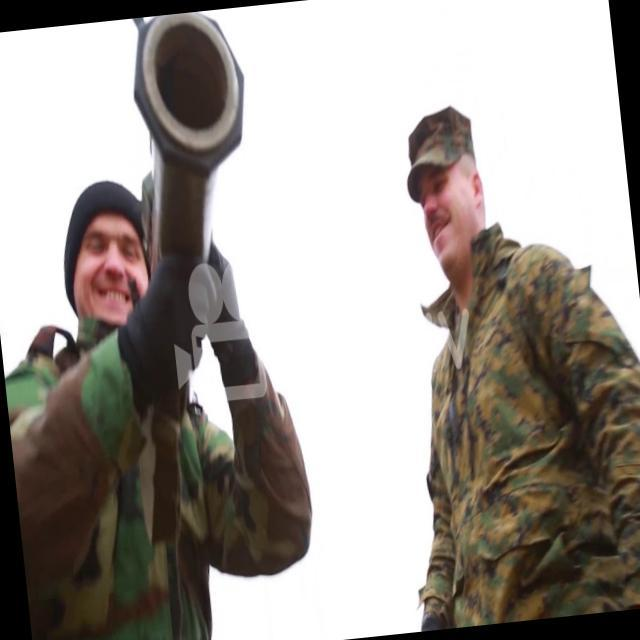rocket: (124, 10, 264, 282)
